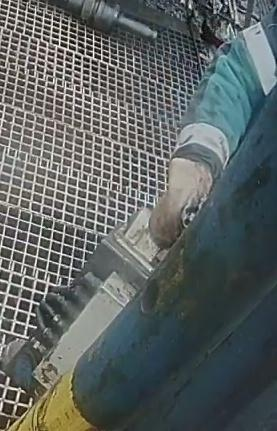gloves: (147, 156, 214, 249)
vest: (71, 1, 276, 430)
